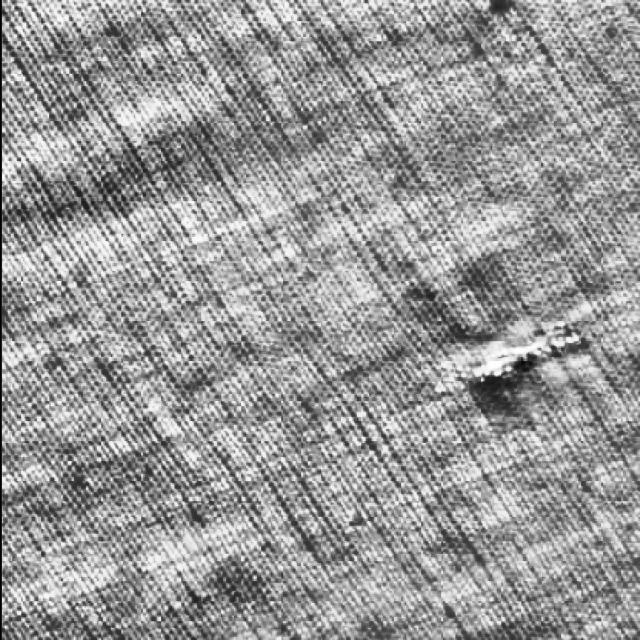hole: (446, 309, 592, 412)
